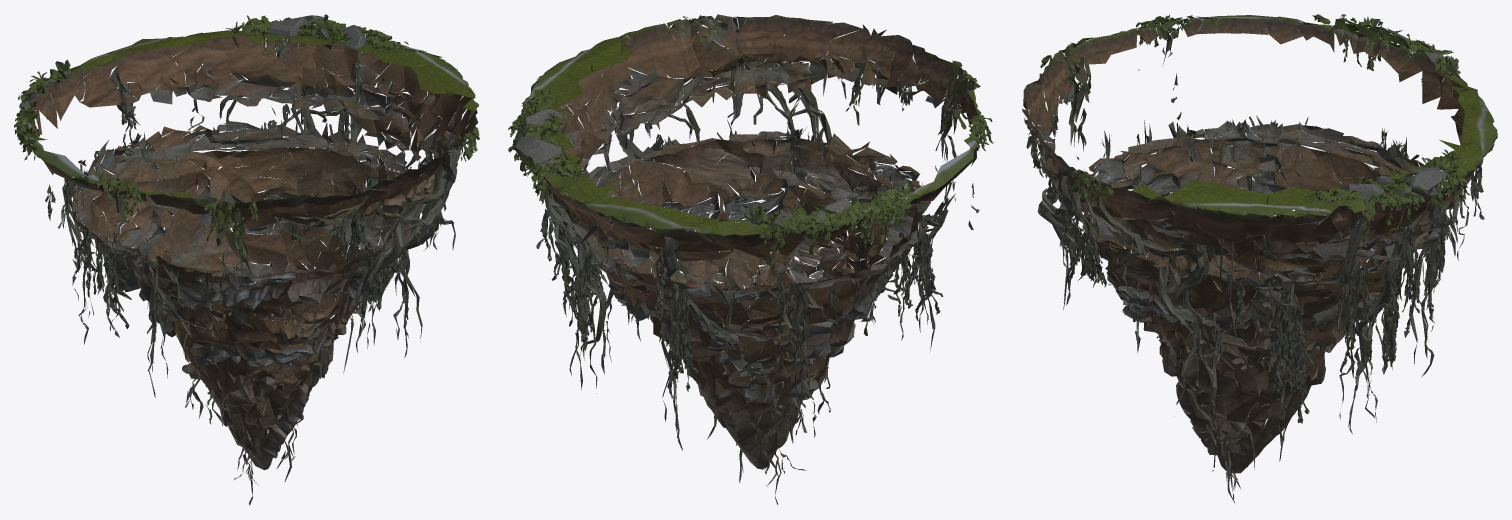
The model's file is underside.glb.
3 renders of one model, left to right at view 1: azimuth 30°, elevation 25°; view 2: azimuth 150°, elevation 25°; view 3: azimuth 270°, elevation 25°, orthographic. The views are drawn at different scales.
Visible parts, largest first — view 1: Mesh_0; view 2: Mesh_0; view 3: Mesh_0.
Boxes of the visible parts, x1,y1,x2,y2 form: Mesh_0: (14, 14, 479, 505); Mesh_0: (508, 14, 993, 504); Mesh_0: (1022, 14, 1497, 502).
Size of the model in its own units: 10 by 9.34 by 9.94.
Materials: 1 (1 with a texture image).
